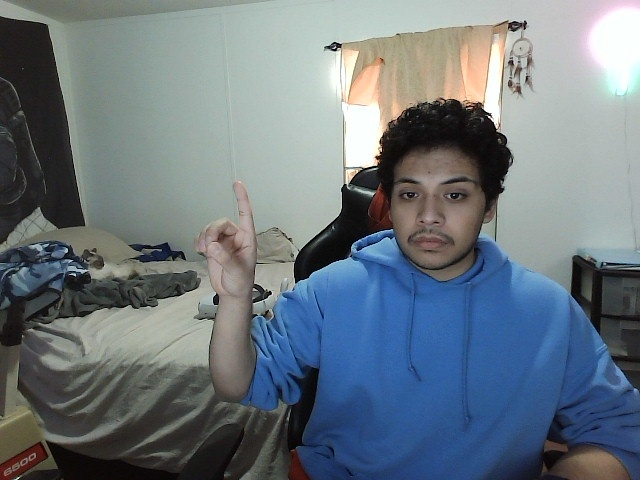D: (193, 175, 267, 300)
